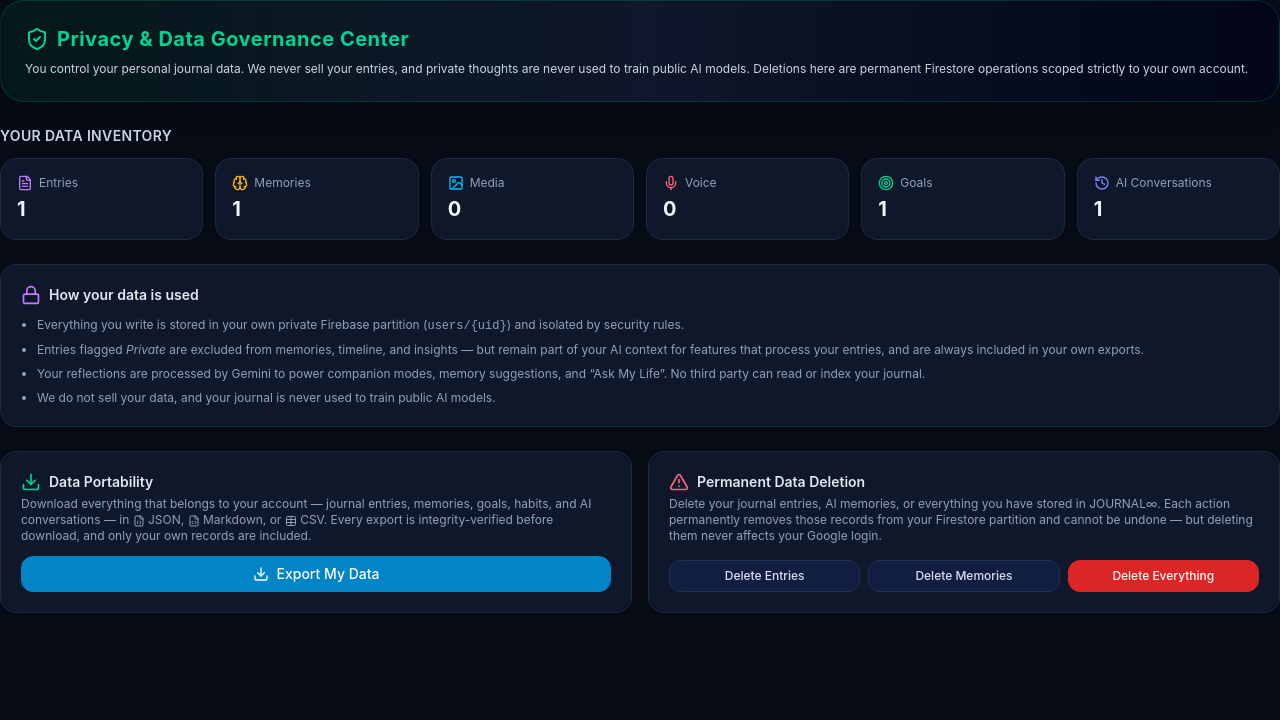
Test: PrivacyCenterView component › opens the real multi-format export modal
Click the button "Export My Data" at (316, 574), box [21, 556, 611, 592]
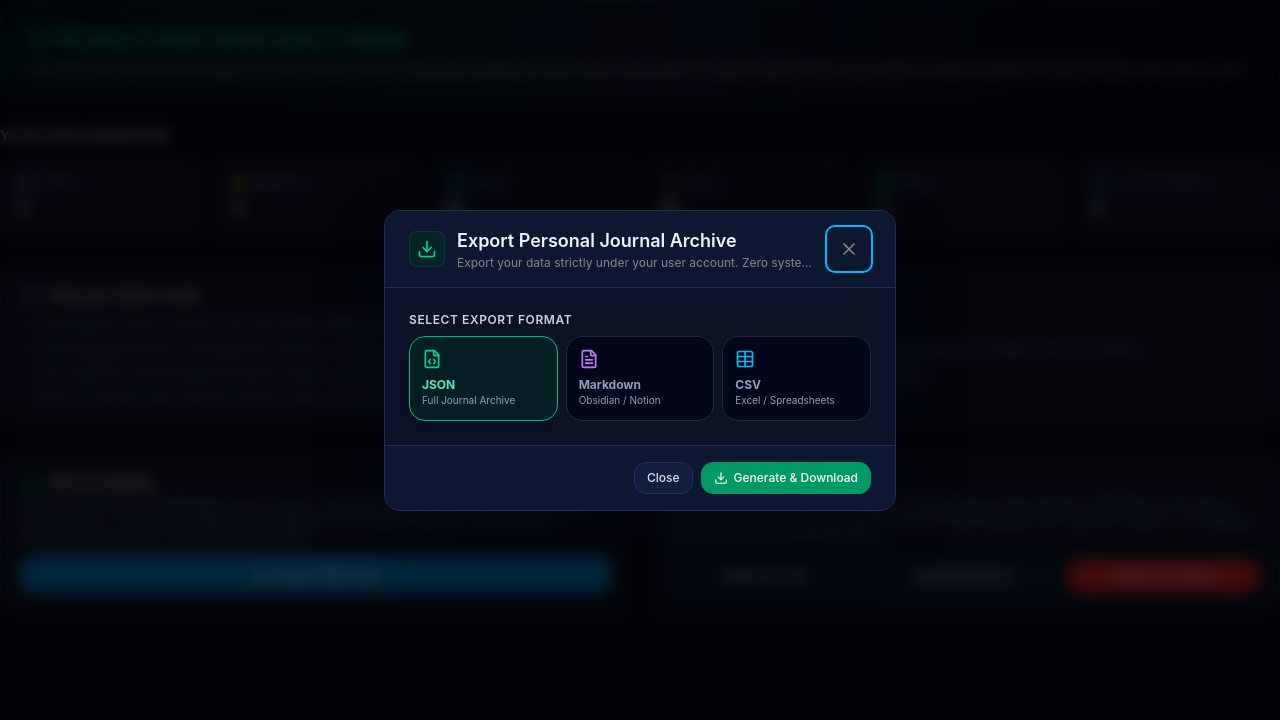
Check: the heading "Export Personal Journal Archive" is shown, box [457, 230, 737, 250]
Check: the text "JSON" is shown, box [422, 376, 455, 392]
Check: the text "Markdown" is shown, box [579, 376, 641, 392]
